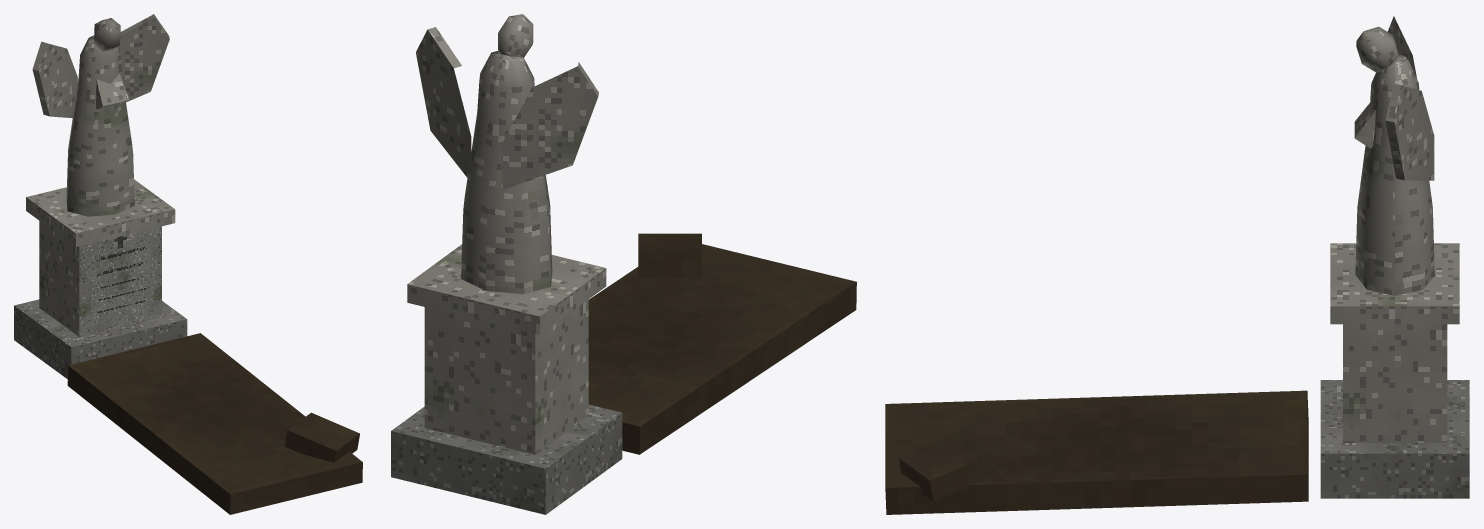
The model's file is grave_c.glb.
3 views of the same model, side by side, from view 1: azimuth 30°, elevation 25°; view 2: azimuth 150°, elevation 25°; view 3: azimuth 270°, elevation 25° (orthographic). The views are drawn at different scales.
Parts seen in each view (by area): view 1: stone-col, detail; view 2: stone-col, detail; view 3: stone-col, detail.
Part boxes in pixels (<box>): stone-col: <box>14,14,187,379</box>; detail: <box>67,333,362,514</box>; stone-col: <box>391,14,622,514</box>; detail: <box>588,233,856,454</box>; stone-col: <box>1320,16,1469,498</box>; detail: <box>885,390,1308,514</box>.
Size of what is drawn, in the model's own units: 0.8993 by 1.97 by 2.35.
Materials: 4 (4 with a texture image).
